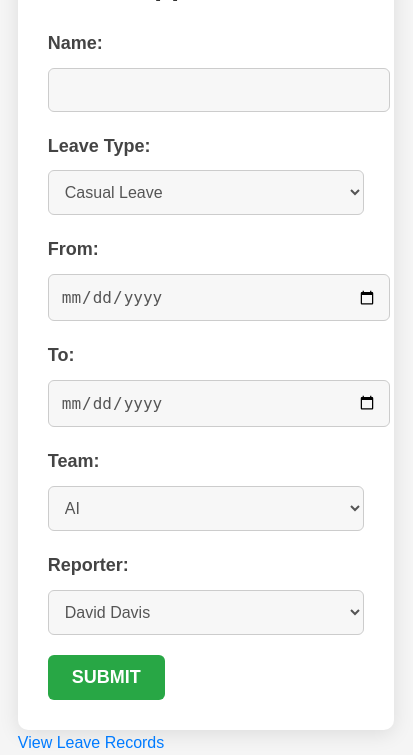
Test: FrontendTask › displays leave records table after clicking 'View Leave Records'
(page scrolled)
Click the link "View Leave Records". click: (91, 742)
box: [18,734,164,751]
(page scrolled)
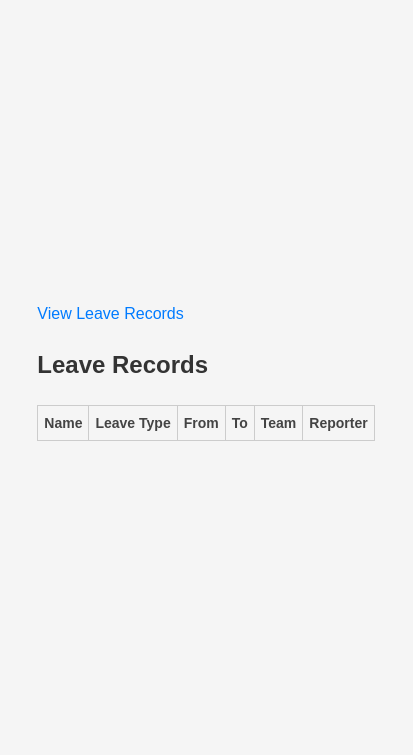
expect the heading "Leave Records" is shown: met, box [37,351,208,378]
